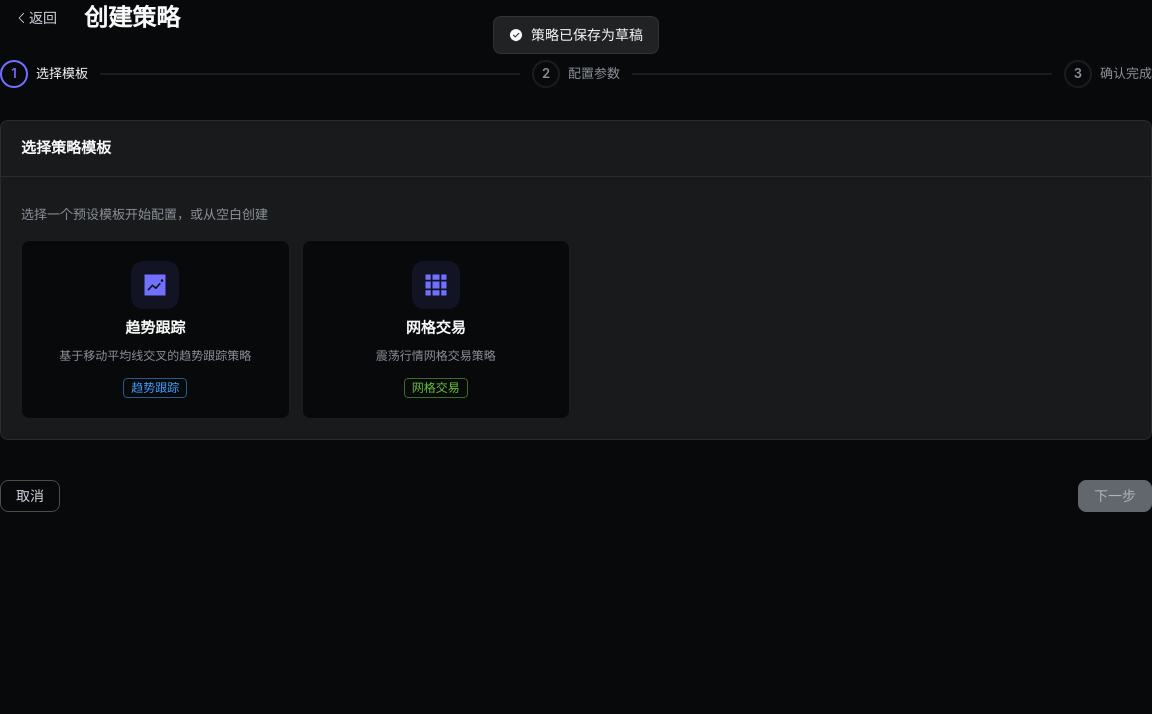
Scenario: StrategyCreateView › renders strategy_type selector in step 2
Go to step 2
Click the element with class "template-card" showing "趋势跟踪 基于移动平均线交叉的趋势跟踪策略 趋势跟踪" at (155, 330), box 21,240 -> 290,420
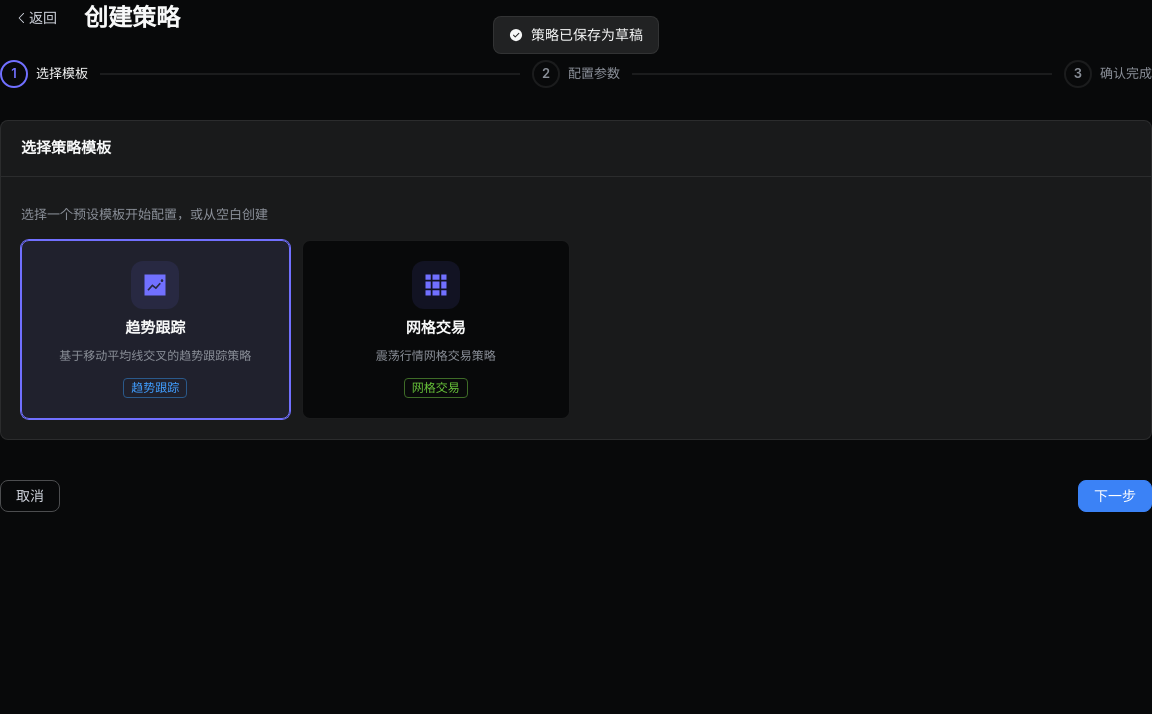
Click the button "下一步" at (1115, 496), box 1078,480 -> 1151,512
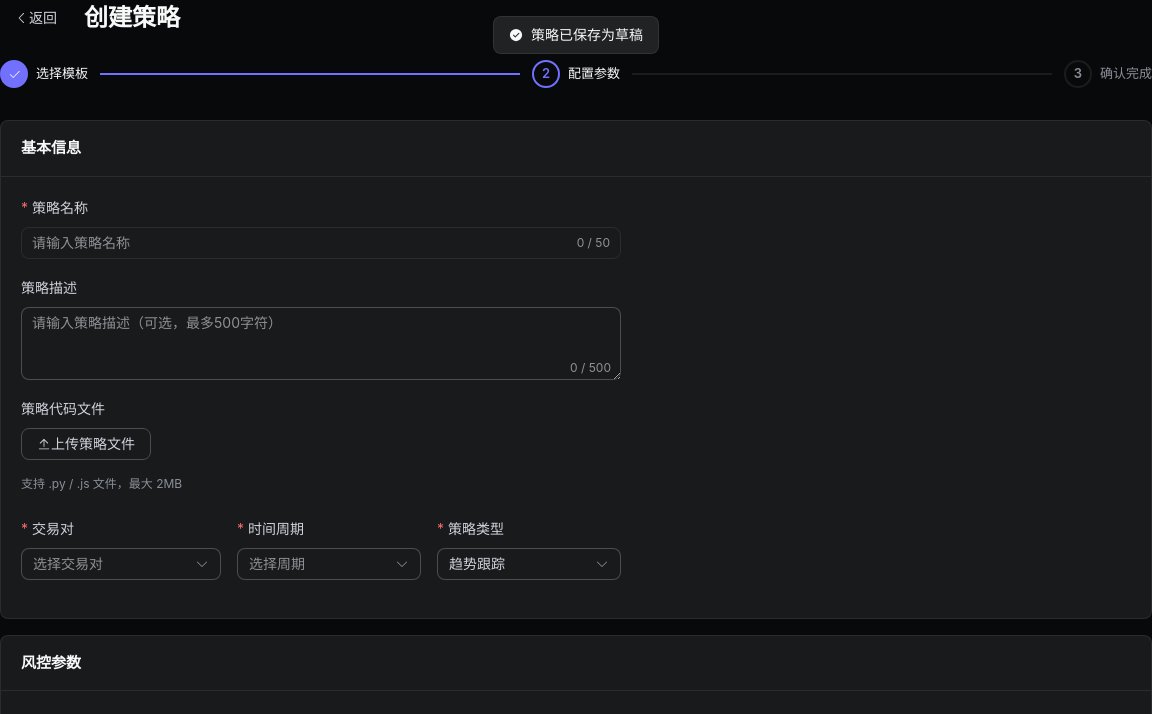
Check: the text "策略类型" is shown, box 437,518 -> 516,540
